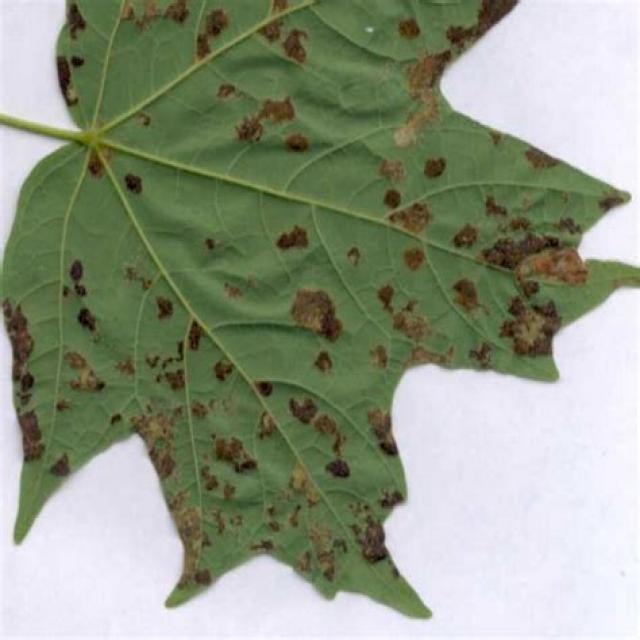blight: (460, 198, 567, 348)
